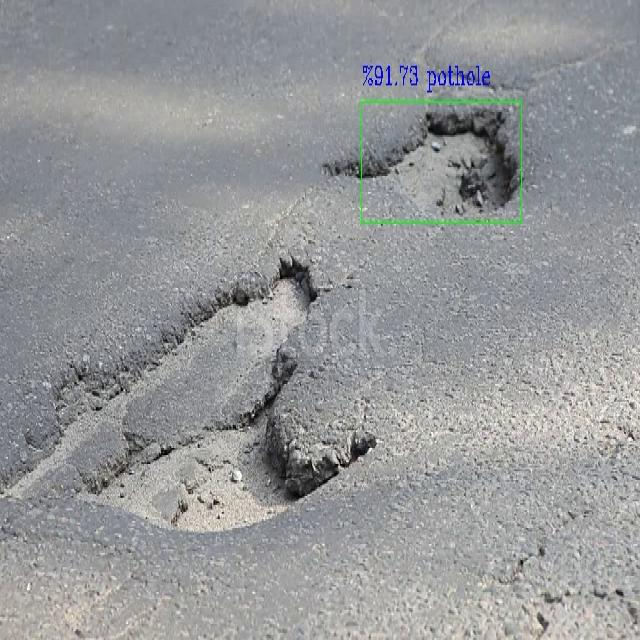pothole: (0, 262, 376, 534), (326, 96, 522, 220)
